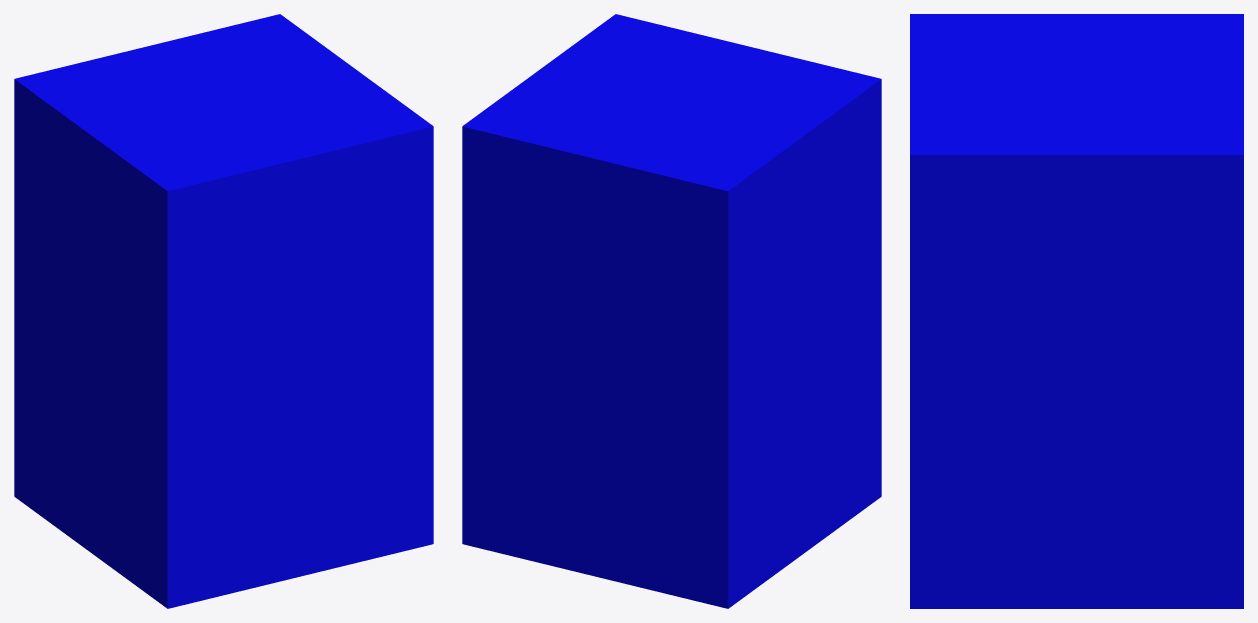
The model's file is cuboid.dae.
3 views of the same model, side by side, from view 1: azimuth 30°, elevation 25°; view 2: azimuth 150°, elevation 25°; view 3: azimuth 270°, elevation 25° (orthographic). The views are drawn at different scales.
Visible parts, largest first — view 1: base_link.002; view 2: base_link.002; view 3: base_link.002.
Boxes of the visible parts, <box> form: base_link.002: <box>14,14,433,608</box>; base_link.002: <box>462,14,881,608</box>; base_link.002: <box>910,14,1243,608</box>.
Size of the model in its own units: 0.1 by 0.1 by 0.15.
